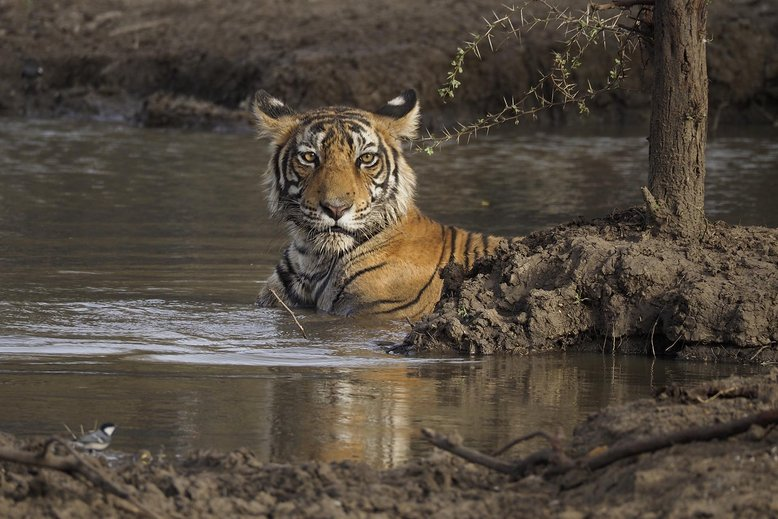Tigre: (244, 83, 473, 322)
